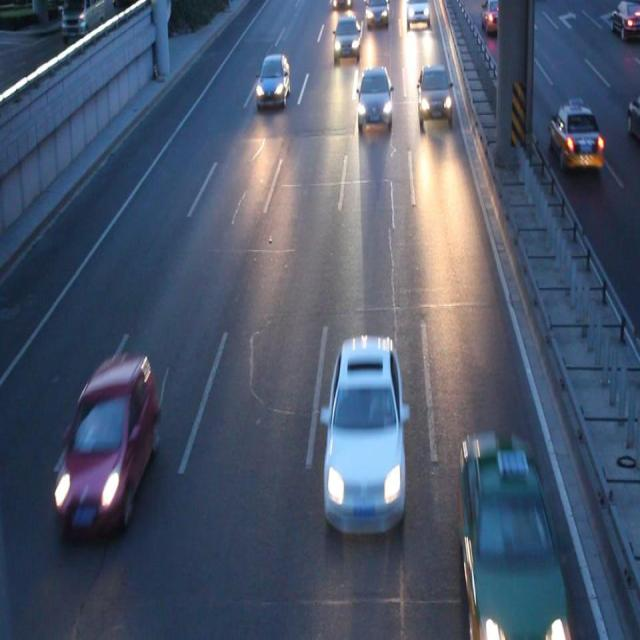car: (458, 440, 567, 633), (58, 356, 158, 526), (323, 338, 403, 524), (547, 104, 601, 167), (357, 71, 392, 125), (417, 66, 450, 118), (256, 55, 289, 103), (334, 17, 359, 55), (481, 1, 508, 30), (626, 94, 640, 136), (365, 1, 387, 23), (406, 1, 428, 23), (331, 1, 350, 7)
